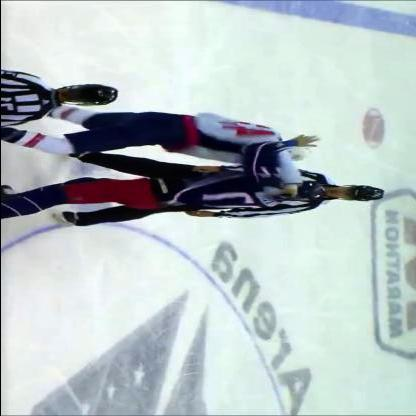voilence: (0, 107, 324, 214)
